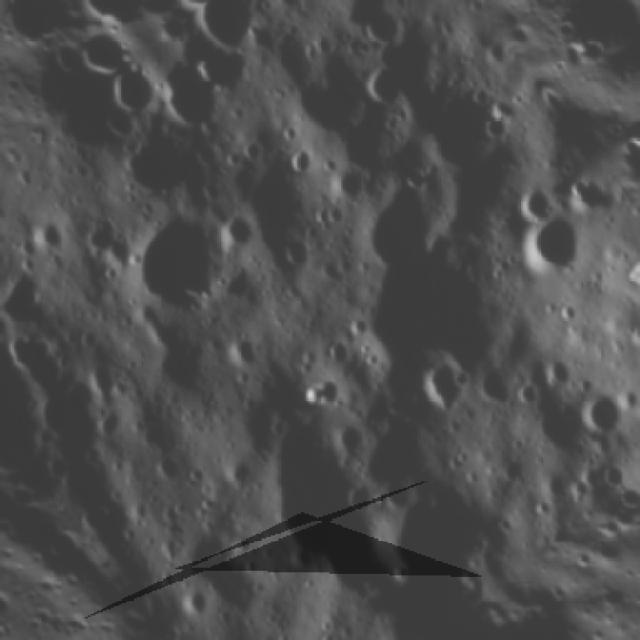crater: (325, 219, 538, 430), (336, 447, 507, 621), (107, 193, 262, 344), (97, 96, 234, 233), (154, 506, 294, 640), (330, 160, 464, 289), (508, 368, 618, 480), (495, 196, 602, 302), (142, 54, 229, 144), (398, 340, 485, 429), (96, 54, 179, 137), (180, 0, 275, 71), (67, 198, 144, 278), (182, 32, 258, 110), (202, 320, 276, 395), (569, 372, 640, 450), (494, 168, 564, 238), (313, 413, 382, 481), (347, 55, 413, 122), (553, 164, 618, 230), (350, 2, 413, 64), (463, 358, 523, 420), (162, 575, 222, 636), (337, 472, 391, 528), (470, 100, 524, 154), (212, 210, 262, 262), (84, 399, 134, 448), (23, 211, 71, 260), (606, 241, 640, 310), (281, 142, 324, 183), (606, 376, 640, 422), (617, 314, 640, 364)
